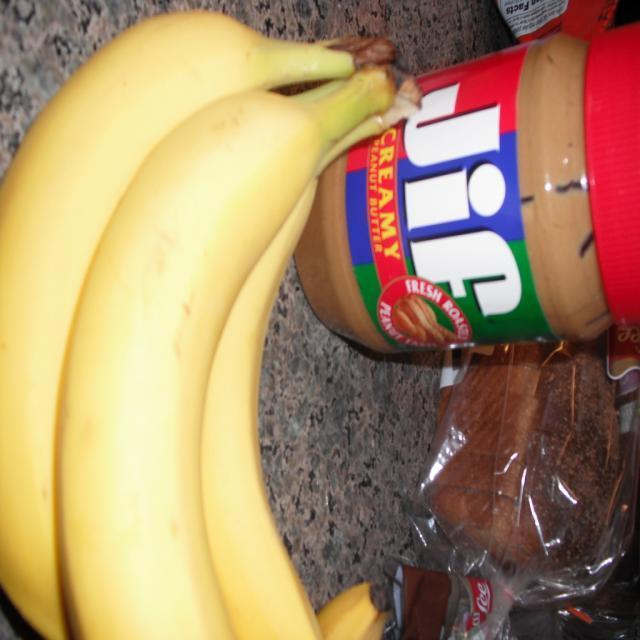Banana: (0, 6, 412, 639)
